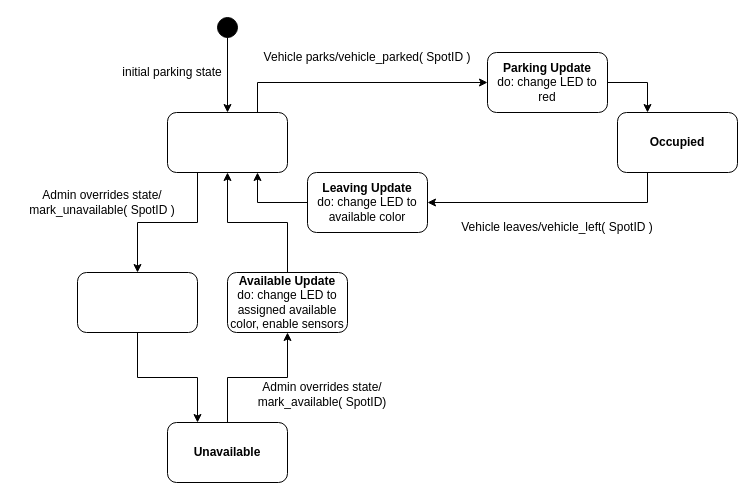
This 755x500 diagram has some shape labels left out. Here are the shapes that lost their labels. From the top down, the box of each, then its label:
(166, 112, 288, 172): Available
(76, 272, 198, 332): Unavailable Update do: change LED to assigned unavailable color, disable sensors
